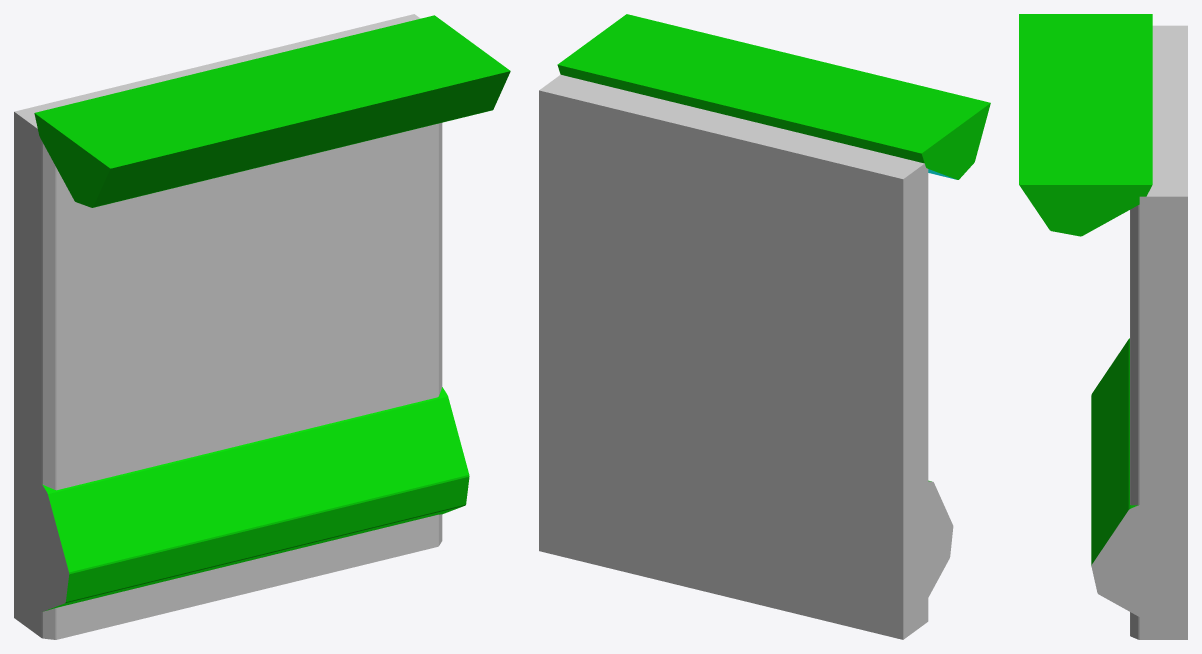
The model's file is wall_bump_topbottom.obj.
3 views of the same model, side by side, from view 1: azimuth 30°, elevation 25°; view 2: azimuth 150°, elevation 25°; view 3: azimuth 270°, elevation 25° (orthographic). The views are drawn at different scales.
Parts seen in each view (by area): view 1: object1; view 2: object1; view 3: object1.
Boxes of the visible parts, x1,y1,x2,y2 form: object1: [14, 14, 510, 639]; object1: [539, 14, 990, 639]; object1: [1019, 14, 1187, 639].
Bounding box in the file's own units: 45.5 × 56.46 × 18.97.
